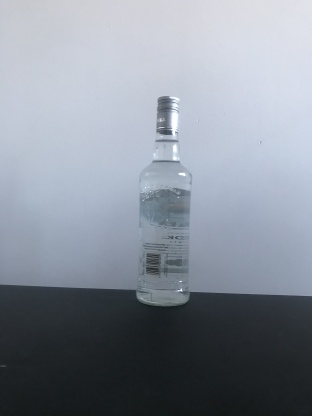nakretka: (155, 93, 180, 135)
